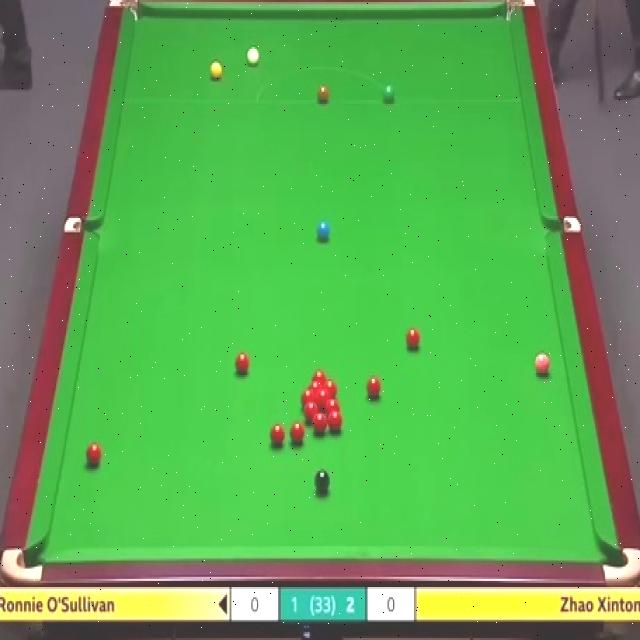black-ball: (314, 467, 330, 497)
blue-ball: (316, 221, 331, 242)
brown-ball: (316, 83, 329, 104)
green-ball: (382, 84, 396, 103)
pink-ball: (534, 351, 550, 376)
red-ball: (289, 419, 306, 448), (233, 349, 250, 377), (85, 442, 102, 469), (268, 422, 285, 447), (327, 410, 343, 435), (366, 374, 381, 399), (406, 326, 421, 351), (313, 412, 327, 436), (304, 400, 318, 422), (322, 379, 338, 398), (316, 389, 331, 408), (300, 388, 315, 405), (324, 399, 342, 412), (312, 370, 327, 381), (307, 380, 323, 390)
white-ball: (247, 44, 260, 66)
yellow-ball: (208, 61, 222, 81)
